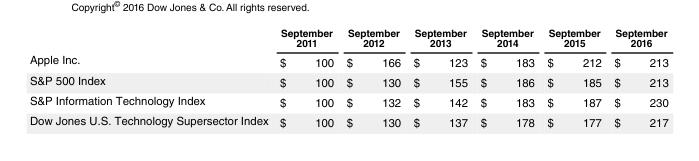table: (28, 28, 667, 129)
table column: (28, 28, 273, 129), (339, 28, 406, 129), (406, 28, 473, 129), (473, 28, 540, 129), (540, 28, 607, 129), (273, 28, 339, 129), (607, 28, 667, 129)
table column header: (28, 28, 667, 52)
table row: (28, 28, 667, 52), (28, 52, 667, 72), (28, 72, 667, 92), (28, 92, 667, 112), (28, 112, 667, 129)
